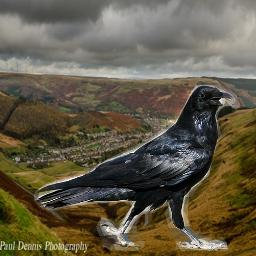Crow: (34, 85, 240, 251)
